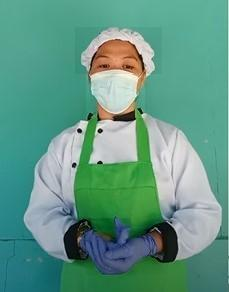apron: (87, 230, 169, 276), (79, 218, 131, 256)
gloves: (75, 28, 162, 75)
mask: (87, 69, 146, 118)
